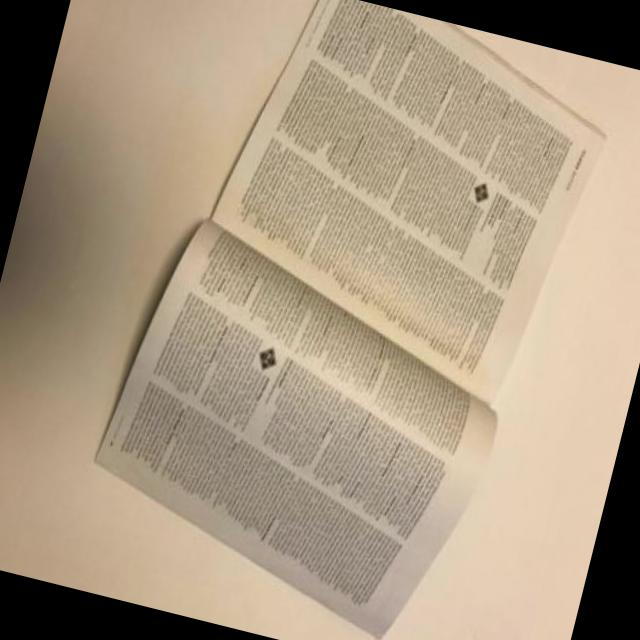cardboard paper: (97, 0, 603, 638), (98, 225, 496, 638), (214, 0, 603, 400)
